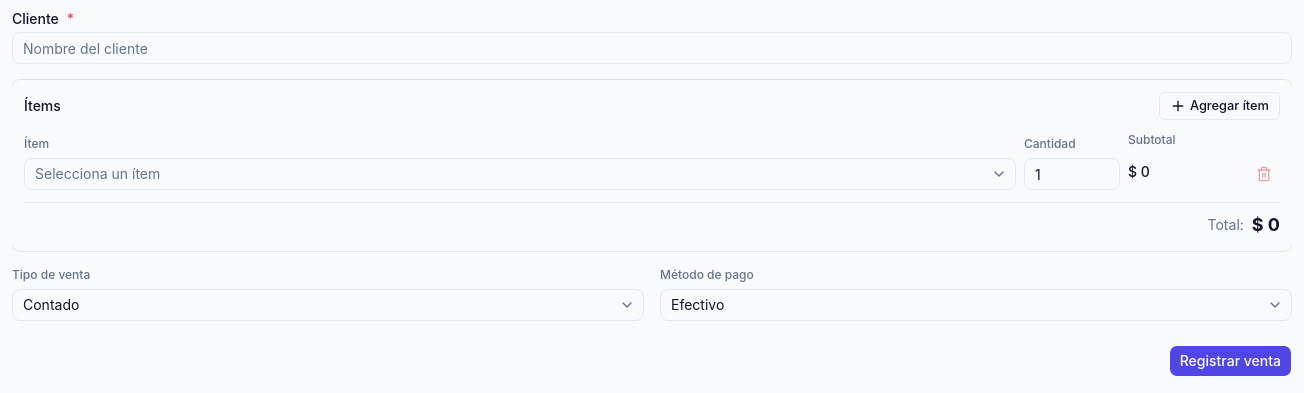
Scenario: SaleForm — cálculo de totales › calcula subtotal y total al seleccionar un ítem y cantidad
The image size is (1304, 393).
Click the dropdown named "ítem 1": (98, 174) [24,158,1016,190]
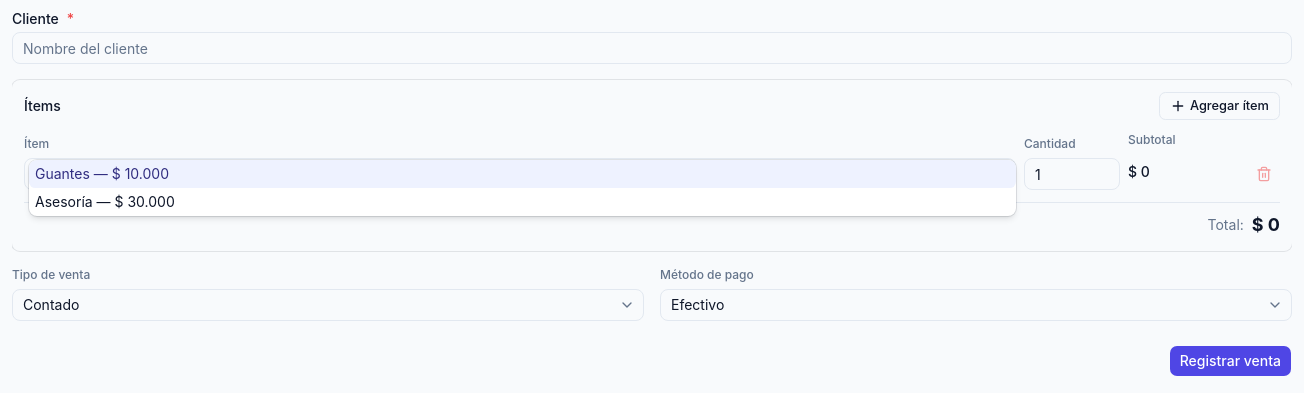
Click the option "Guantes — $ 10.000": (62, 174) [29,160,1016,188]
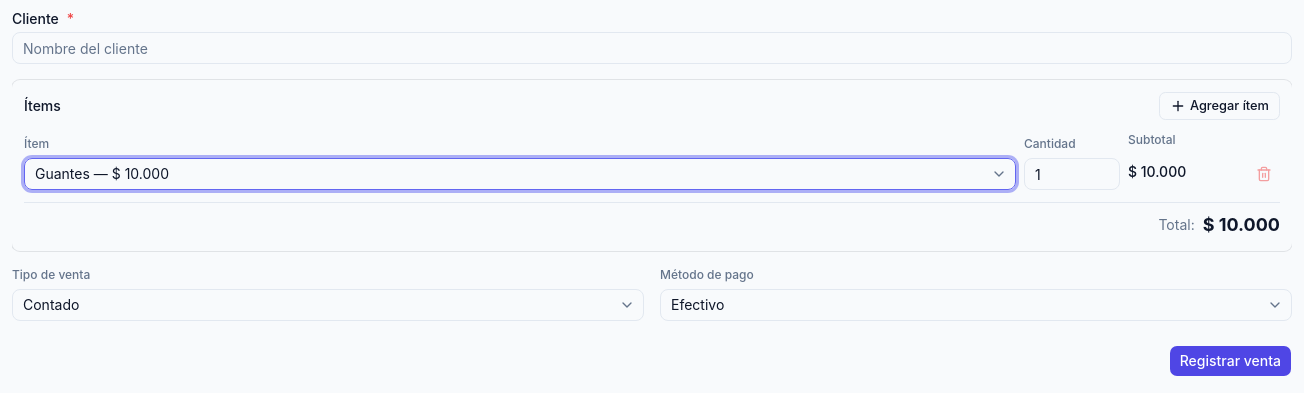
Replace the text in the field named "cantidad 1" with "3": (1072, 174) [1024,158,1120,190]
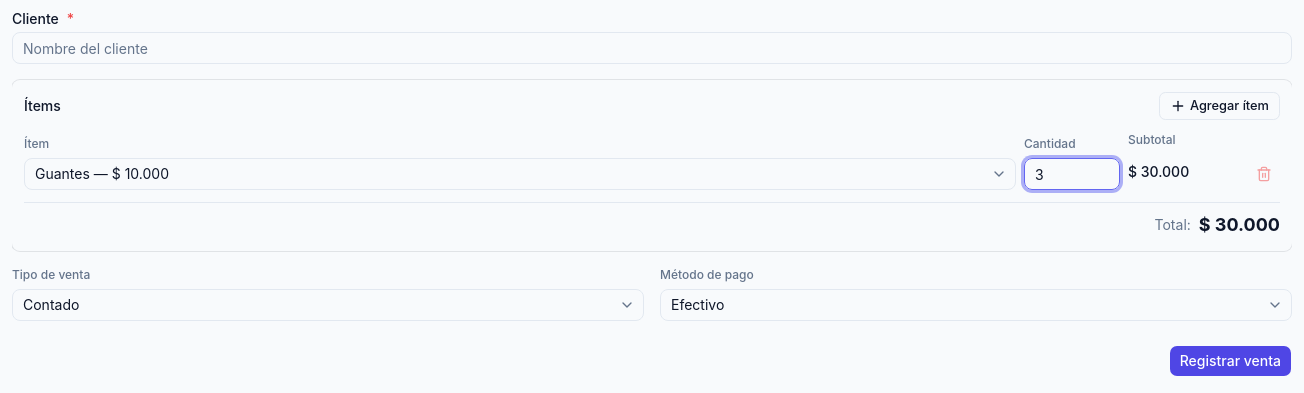
Now the text with test id "sale-subtotal-0" shows "30.000", box [1128,163,1189,180]
Now the text with test id "sale-total" shows "30.000", box [1199,214,1280,235]
